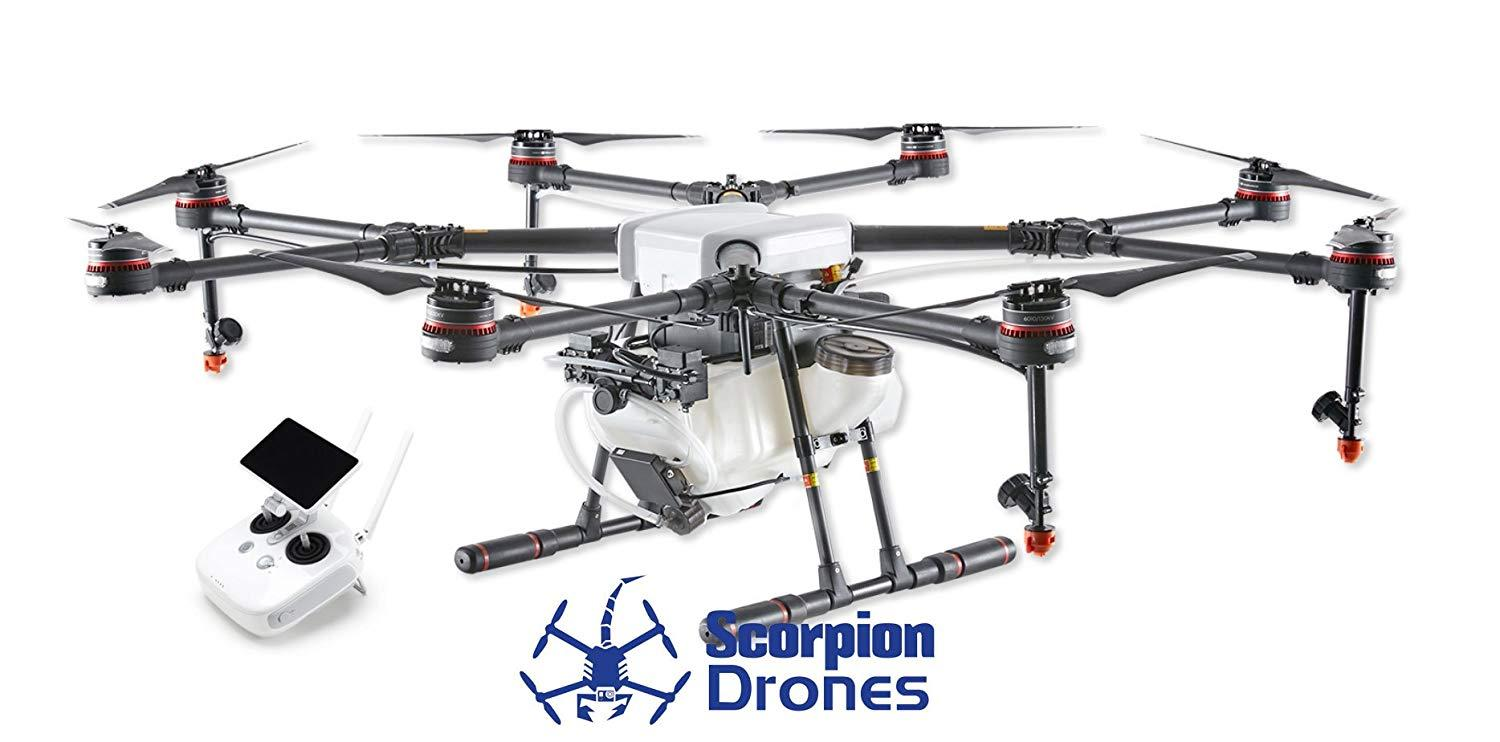drone: (58, 97, 1455, 512)
